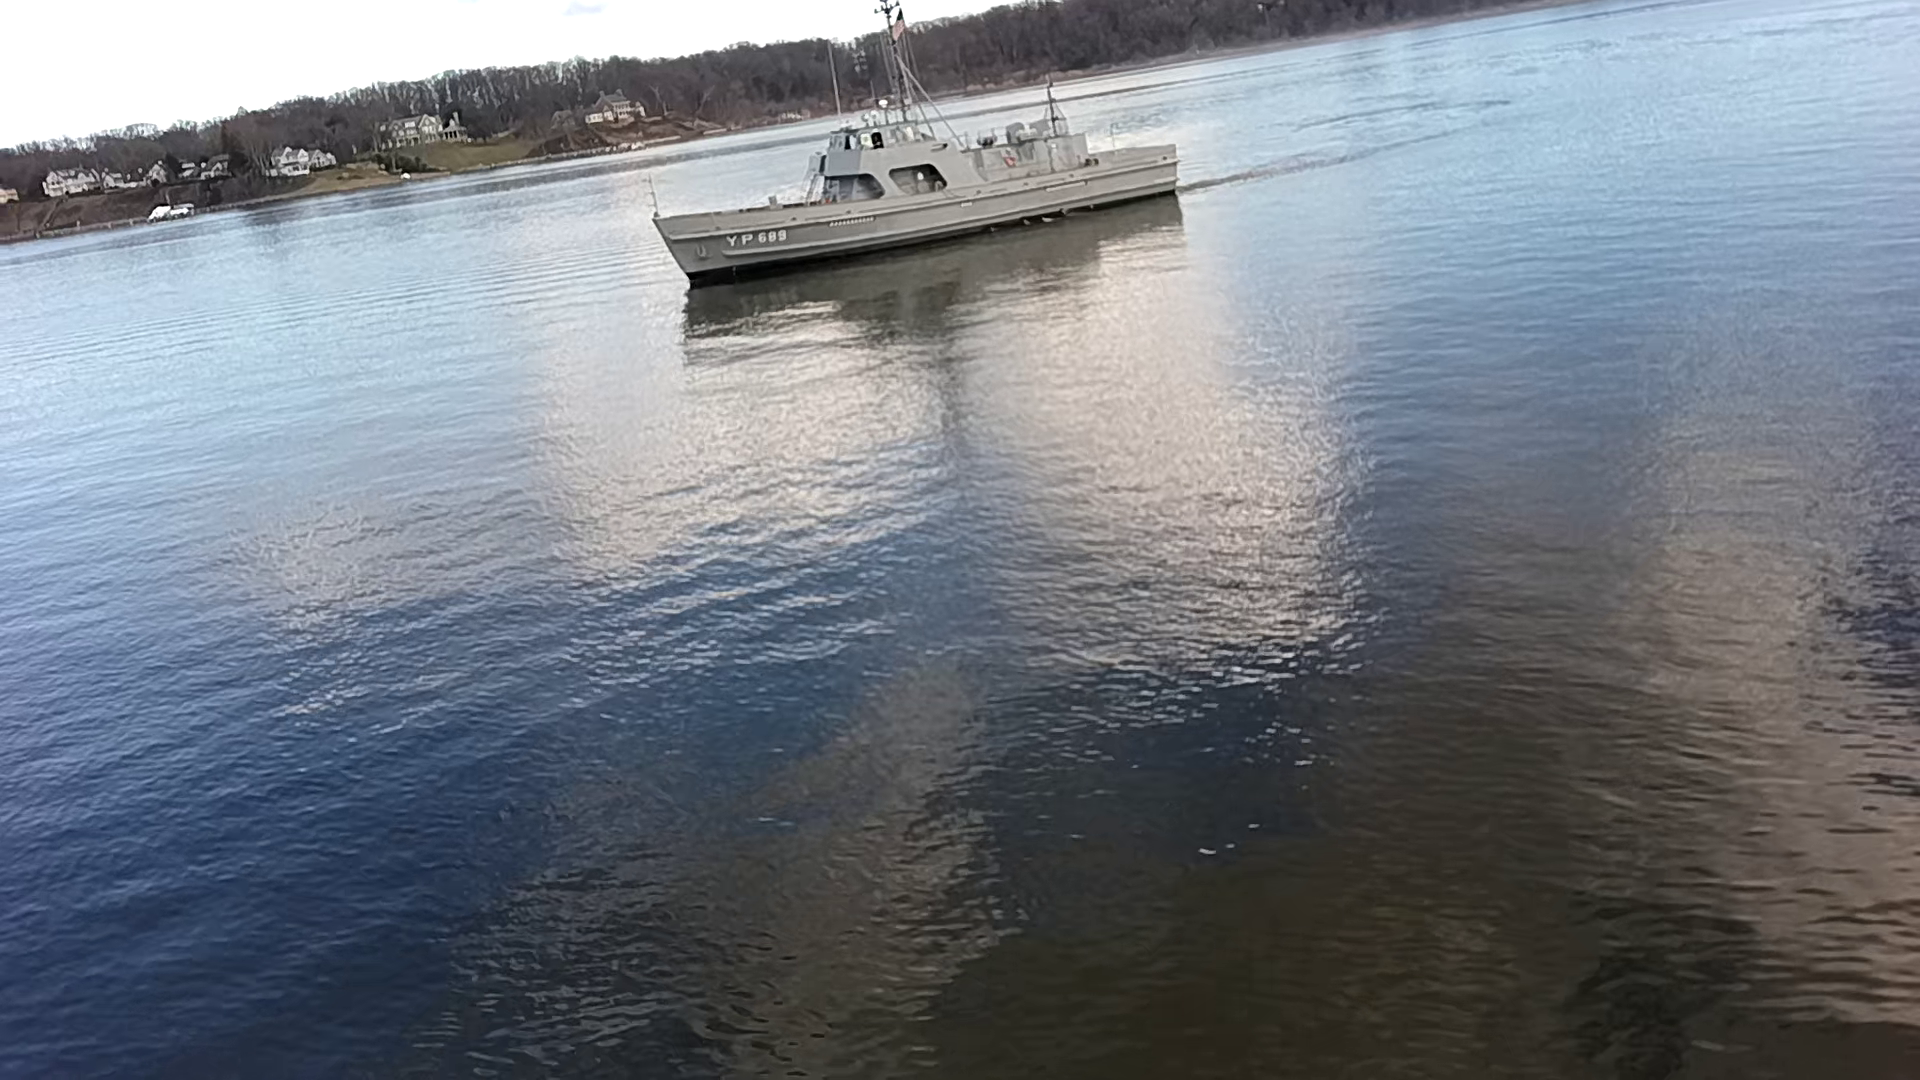YP689: (651, 0, 1178, 287)
